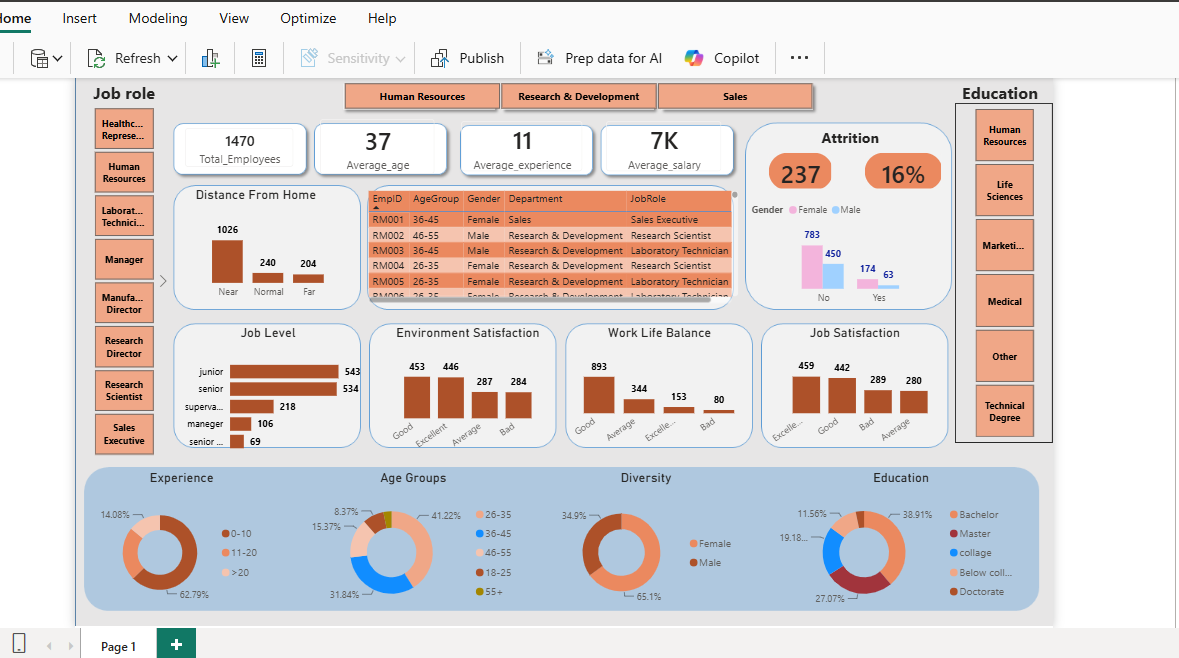

The dashboard page shown, as its layout file describes it:
{"tool":"powerbi","page":{"name":"Page 1","canvas":[1280,720],"ordinal":0},"visuals":[{"type":"cardVisual","fields":{"Data":["All measures.Total_Employees"]},"box":[127,48.4,176.7,85],"z":0},{"type":"cardVisual","fields":{"Data":["All measures.Average_age"]},"box":[303.7,36.7,184.6,106],"z":1000},{"type":"cardVisual","fields":{"Data":["All measures.Average_experience"]},"box":[488.3,39.3,193.7,100.8],"z":2000},{"type":"cardVisual","fields":{"Data":["All measures.Average_salary"]},"box":[678.1,39.3,185.9,100.8],"z":3000},{"type":"cardVisual","fields":{"Data":["All measures.Attration"]},"box":[890.2,79.9,118.3,83.3],"z":4000},{"type":"cardVisual","fields":{"Data":["All measures.Attrition%"]},"box":[1015.9,79.9,136.7,83.3],"z":5000},{"type":"clusteredColumnChart","fields":{"Category":["HR_Analytics.Attrition"],"Y":["All measures.Total_Employees"],"Series":["HR_Analytics.Gender"]},"box":[880.9,152.8,271.1,152.8],"z":6000},{"type":"slicer","fields":{"Values":["HR_Analytics.Department"]},"box":[327.6,0,662.4,47.1],"z":7000},{"type":"slicer","fields":{"Values":["HR_Analytics.JobRole"]},"box":[0,32.7,126.7,466.7],"z":8000},{"type":"slicer","fields":{"Values":["HR_Analytics.EducationField"]},"box":[1151.7,33.3,128.3,445],"z":9000},{"type":"textbox","box":[0,0,135,45],"z":10000},{"type":"textbox","box":[1141.5,0,138.8,48.4],"z":11000},{"type":"textbox","box":[927.4,60.5,176.2,37.2],"z":11001},{"type":"clusteredColumnChart","title":" Distance From Home ","fields":{"Category":["HR_Analytics.DistanceFromHome (groups)"],"Y":["All measures.Total_Employees"]},"box":[152.8,143.1,200.9,155.5],"z":11002},{"type":"clusteredBarChart","title":"Job Level ","fields":{"Y":["All measures.Total_Employees"],"Category":["HR_Analytics.JobLevel (groups)"]},"box":[126.6,323.4,251.9,176.2],"z":11003},{"type":"clusteredColumnChart","title":" Environment Satisfaction ","fields":{"Y":["All measures.Total_Employees"],"Category":["HR_Analytics.EnvironmentSatisfaction (groups)"]},"box":[407.4,323.4,214.7,176.2],"z":11004},{"type":"clusteredColumnChart","title":" Work Life Balance","fields":{"Category":["HR_Analytics.WorkLifeBalance (groups)"],"Y":["All measures.Total_Employees"]},"box":[640,323.4,250.5,166.5],"z":11005},{"type":"clusteredColumnChart","title":" Job Satisfaction ","fields":{"Category":["HR_Analytics.JobSatisfaction (groups)"],"Y":["All measures.Total_Employees"]},"box":[900.1,323.4,240.9,166.5],"z":11006},{"type":"donutChart","title":"Education ","fields":{"Category":["HR_Analytics.Education (groups)"],"Y":["All measures.Total_Employees"]},"box":[916.6,513.4,330.3,185.8],"z":11007},{"type":"donutChart","title":"Diversity","fields":{"Y":["All measures.Total_Employees"],"Category":["HR_Analytics.Gender"]},"box":[622.1,512.6,252,186],"z":11008},{"type":"donutChart","title":" Age Groups","fields":{"Category":["HR_Analytics.AgeGroup"],"Y":["All measures.Total_Employees"]},"box":[299.5,512.6,286.3,185.8],"z":11009},{"type":"donutChart","title":" Experience ","fields":{"Category":["HR_Analytics.Experience (groups)"],"Y":["All measures.Total_Employees"]},"box":[25.9,512.6,227,186],"z":11010},{"type":"tableEx","fields":{"Values":["HR_Analytics.EmpID","HR_Analytics.AgeGroup","HR_Analytics.Gender","HR_Analytics.Department","HR_Analytics.JobRole"]},"box":[378.7,142.6,495.4,157],"z":11011}]}

Visuals, with their boxes on the page's 1280x720 design canvas (x1, y1, x2, y2). These are canvas units, not pixel positions in the 1179x658 screenshot, which may show the page scaled, cropped or inside an application window:
cardVisual - All measures.Total_Employees: bbox=(127, 48, 304, 133)
cardVisual - All measures.Average_age: bbox=(304, 37, 488, 143)
cardVisual - All measures.Average_experience: bbox=(488, 39, 682, 140)
cardVisual - All measures.Average_salary: bbox=(678, 39, 864, 140)
cardVisual - All measures.Attration: bbox=(890, 80, 1008, 163)
cardVisual - All measures.Attrition%: bbox=(1016, 80, 1153, 163)
clusteredColumnChart - HR_Analytics.Attrition x All measures.Total_Employees: bbox=(881, 153, 1152, 306)
slicer - HR_Analytics.Department: bbox=(328, 0, 990, 47)
slicer - HR_Analytics.JobRole: bbox=(0, 33, 127, 499)
slicer - HR_Analytics.EducationField: bbox=(1152, 33, 1280, 478)
textbox: bbox=(0, 0, 135, 45)
textbox: bbox=(1142, 0, 1280, 48)
textbox: bbox=(927, 60, 1104, 98)
" Distance From Home " clusteredColumnChart: bbox=(153, 143, 354, 299)
"Job Level " clusteredBarChart: bbox=(127, 323, 378, 500)
" Environment Satisfaction " clusteredColumnChart: bbox=(407, 323, 622, 500)
" Work Life Balance" clusteredColumnChart: bbox=(640, 323, 890, 490)
" Job Satisfaction " clusteredColumnChart: bbox=(900, 323, 1141, 490)
"Education " donutChart: bbox=(917, 513, 1247, 699)
"Diversity" donutChart: bbox=(622, 513, 874, 699)
" Age Groups" donutChart: bbox=(300, 513, 586, 698)
" Experience " donutChart: bbox=(26, 513, 253, 699)
tableEx - HR_Analytics.EmpID x HR_Analytics.AgeGroup: bbox=(379, 143, 874, 300)
